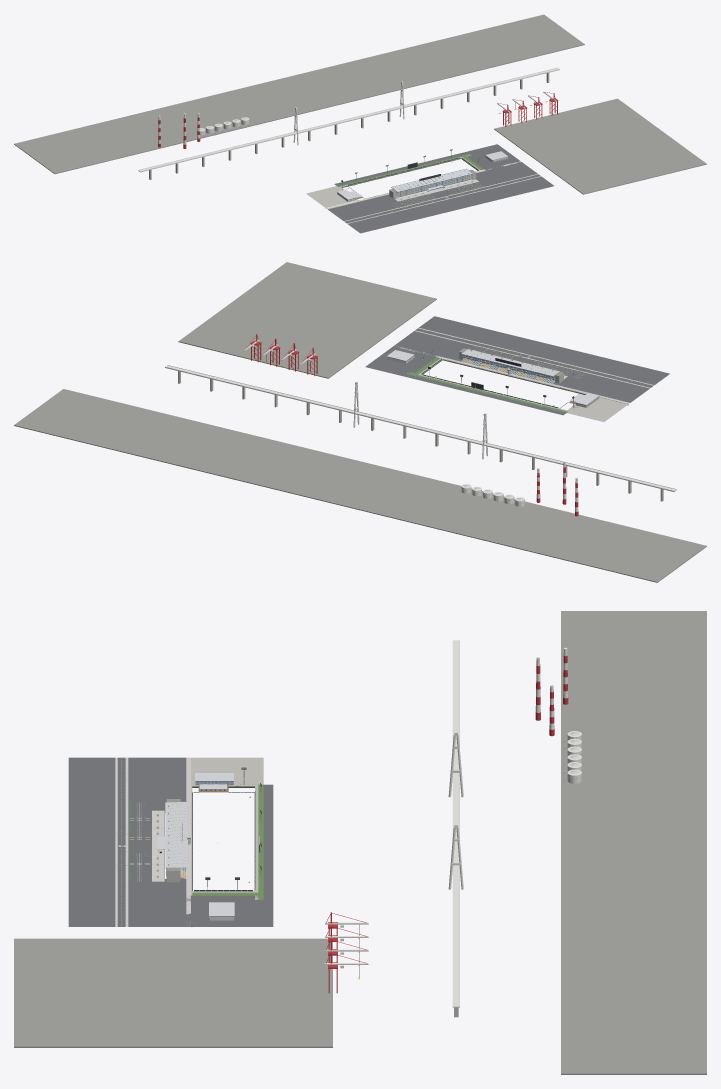
The model's file is venue.fbx.
3 views of the same model, one above another, from view 1: azimuth 30°, elevation 25°; view 2: azimuth 150°, elevation 25°; view 3: azimuth 270°, elevation 25° (orthographic). The views are drawn at different scales.
Parts seen in each view (by area): view 1: Far__ConcreteDark__7_0_00, Far__ConcreteDark__7_1_00, Far__ConcreteDark__7_-3_00, Far__ConcreteDark__7_-2_00, Far__ConcreteDark__-10_7_00, Far__ConcreteDark__5_-3_00, Far__ConcreteDark__5_-2_00, Far__ConcreteDark__5_0_00, Far__ConcreteDark__5_1_00, Far__ConcreteDark__7_8_00, Far__ConcreteDark__-8_7_00, Far__ConcreteDark__-7_7_00 (+57 smaller); view 2: Far__ConcreteDark__7_8_00, Far__ConcreteDark__5_-2_00, Far__ConcreteDark__5_-3_00, Far__ConcreteDark__7_-3_00, Far__ConcreteDark__7_-2_00, Far__ConcreteDark__-10_7_00, Far__ConcreteDark__7_1_00, Far__ConcreteDark__5_0_00, Far__ConcreteDark__7_0_00, Far__ConcreteDark__-3_8_00, Far__ConcreteDark__2_8_00, Far__ConcreteDark__-8_8_00 (+59 smaller); view 3: Far__ConcreteDark__5_0_00, Far__ConcreteDark__7_0_00, Far__ConcreteDark__5_-2_00, Far__ConcreteDark__7_-2_00, Far__ConcreteDark__5_-3_00, Far__ConcreteDark__7_-3_00, Far__ConcreteDark__7_1_00, Far__ConcreteDark__7_8_00, Far__ConcreteDark__5_1_00, Far__ConcreteDark__-10_7_00, Far__ConcreteDark__-8_7_00, Far__ConcreteDark__-8_8_00 (+89 smaller).
Boxes of the visible parts, x1,y1,x2,y2 form: Far__ConcreteDark__7_0_00: [578, 118, 635, 134]; Far__ConcreteDark__7_1_00: [558, 106, 613, 122]; Far__ConcreteDark__7_-3_00: [623, 150, 679, 166]; Far__ConcreteDark__7_-2_00: [601, 139, 657, 154]; Far__ConcreteDark__-10_7_00: [24, 150, 74, 166]; Far__ConcreteDark__5_-3_00: [588, 158, 622, 181]; Far__ConcreteDark__5_-2_00: [565, 146, 600, 169]; Far__ConcreteDark__5_0_00: [543, 125, 577, 149]; Far__ConcreteDark__5_1_00: [521, 113, 555, 137]; Far__ConcreteDark__7_8_00: [461, 26, 512, 42]; Far__ConcreteDark__-8_7_00: [75, 134, 125, 153]; Far__ConcreteDark__-7_7_00: [111, 127, 156, 144]; Far__ConcreteDark__7_8_00: [74, 423, 127, 450]; Far__ConcreteDark__5_-2_00: [308, 309, 377, 328]; Far__ConcreteDark__5_-3_00: [335, 295, 403, 314]; Far__ConcreteDark__7_-3_00: [292, 276, 334, 305]; Far__ConcreteDark__7_-2_00: [265, 291, 307, 319]; Far__ConcreteDark__-10_7_00: [651, 546, 694, 572]; Far__ConcreteDark__7_1_00: [211, 330, 253, 359]; Far__ConcreteDark__5_0_00: [281, 334, 349, 354]; Far__ConcreteDark__7_0_00: [238, 316, 280, 344]; Far__ConcreteDark__-3_8_00: [396, 508, 452, 528]; Far__ConcreteDark__2_8_00: [235, 466, 288, 489]; Far__ConcreteDark__-8_8_00: [557, 545, 610, 567]; Far__ConcreteDark__5_0_00: [213, 952, 292, 992]; Far__ConcreteDark__7_0_00: [213, 992, 292, 1032]; Far__ConcreteDark__5_-2_00: [94, 952, 173, 992]; Far__ConcreteDark__7_-2_00: [94, 992, 173, 1032]; Far__ConcreteDark__5_-3_00: [54, 952, 133, 992]; Far__ConcreteDark__7_-3_00: [54, 992, 133, 1032]; Far__ConcreteDark__7_1_00: [254, 993, 332, 1032]; Far__ConcreteDark__7_8_00: [639, 1001, 706, 1030]; Far__ConcreteDark__5_1_00: [254, 952, 332, 992]; Far__ConcreteDark__-10_7_00: [584, 611, 670, 639]; Far__ConcreteDark__-8_7_00: [580, 654, 665, 683]; Far__ConcreteDark__-8_8_00: [652, 654, 706, 683].
Bounding box in the file's own units: 8400 × 555 × 5320.
